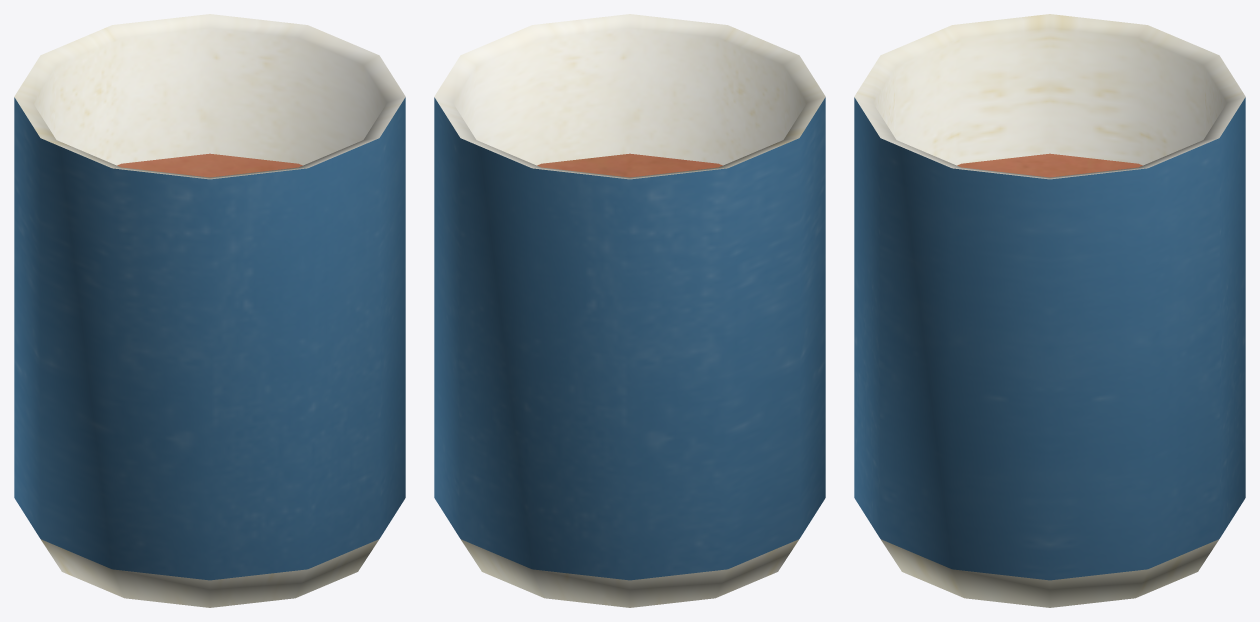
Rendered from sake05e.fbx.
The picture shows the model from 3 angles, left to right: view 1: azimuth 30°, elevation 25°; view 2: azimuth 150°, elevation 25°; view 3: azimuth 270°, elevation 25°; orthographic projection.
Parts seen in each view (by area): view 1: sake05e; view 2: sake05e; view 3: sake05e.
Part boxes in pixels (x1,y1,x2,y2): sake05e: (14,14,405,607); sake05e: (434,14,825,607); sake05e: (854,14,1245,607).
Bounding box in the file's own units: 7.52 × 9.3 × 7.52.
